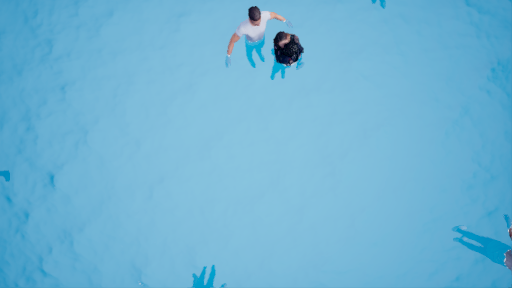person: (217, 5, 311, 80)
